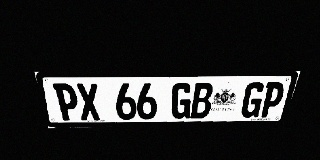6: (114, 83, 137, 120), (136, 83, 157, 119)
B: (190, 83, 214, 119)
G: (239, 82, 267, 118), (171, 83, 193, 119)
P: (53, 83, 81, 121), (258, 82, 287, 117)
X: (75, 83, 101, 120)
